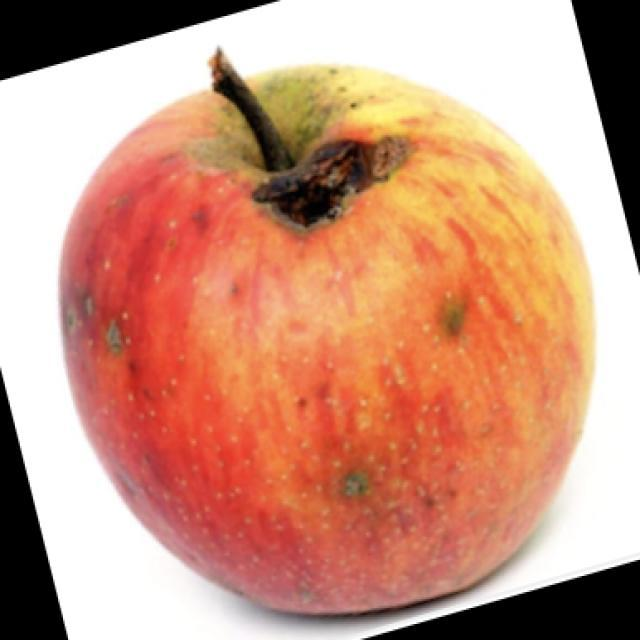Rotten: (57, 65, 593, 625)
